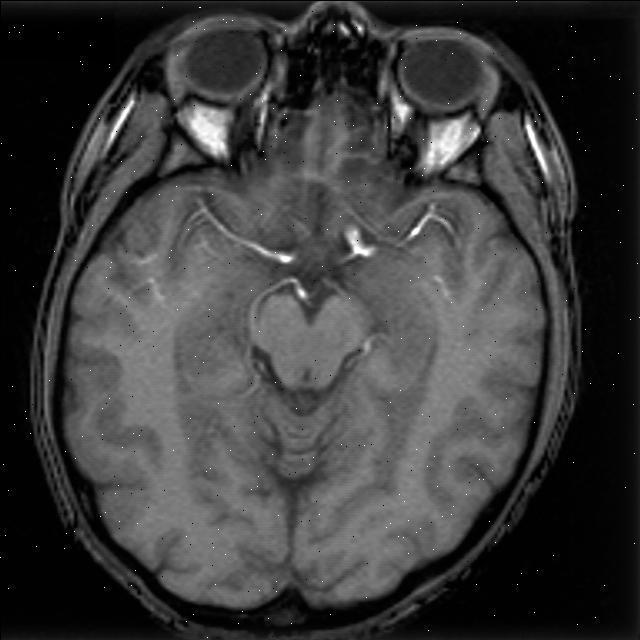No_Tumor: (32, 2, 579, 639)
